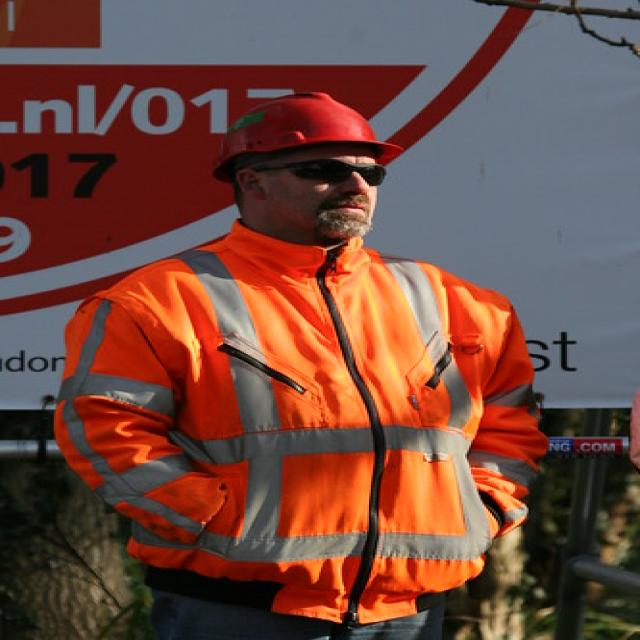Reflective-Jacket: (44, 226, 556, 626)
Safety-Helmet: (198, 84, 411, 180)
